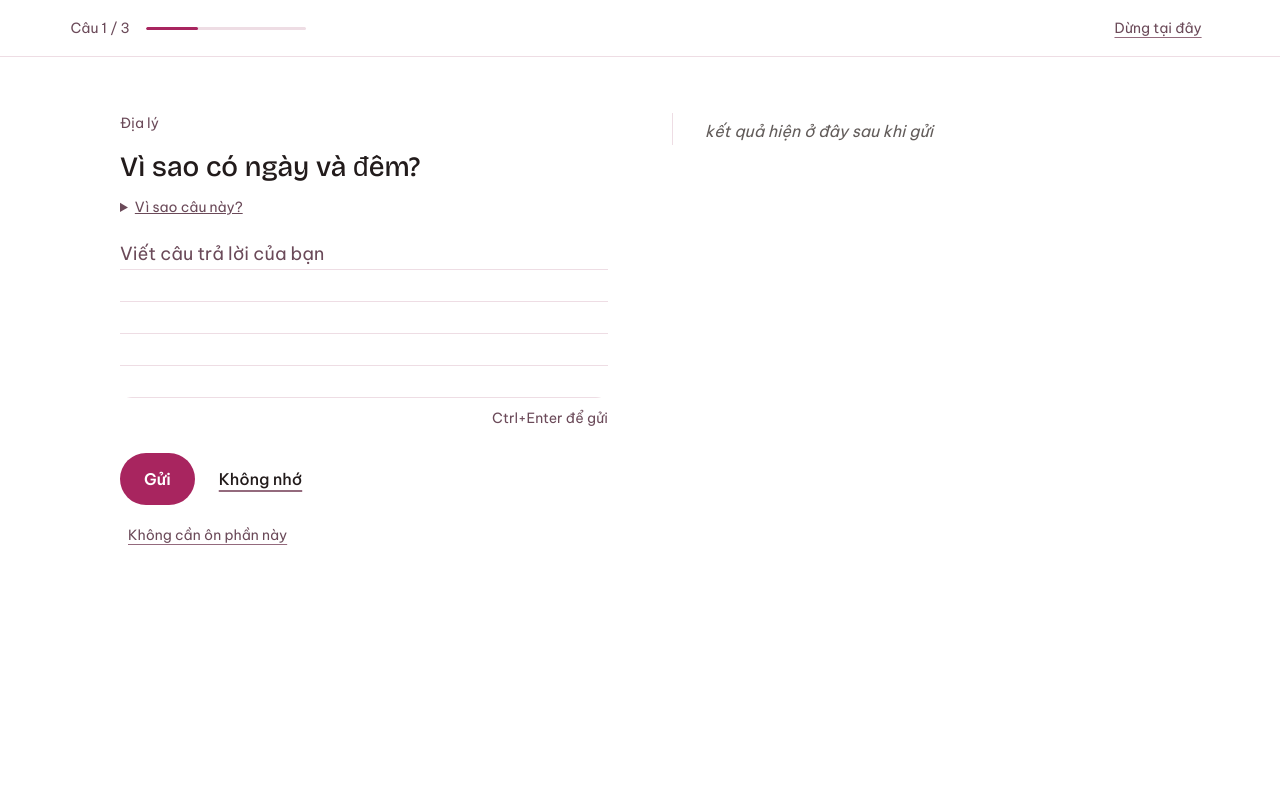
Test case: Không cần ôn phần này (T2.24, US-04 AC5) › US-04 AC5: Hoàn tác undoes the skip at once and the line goes
Click the button "Không cần ôn phần này". click: [208, 535]
box: [120,513,295,557]
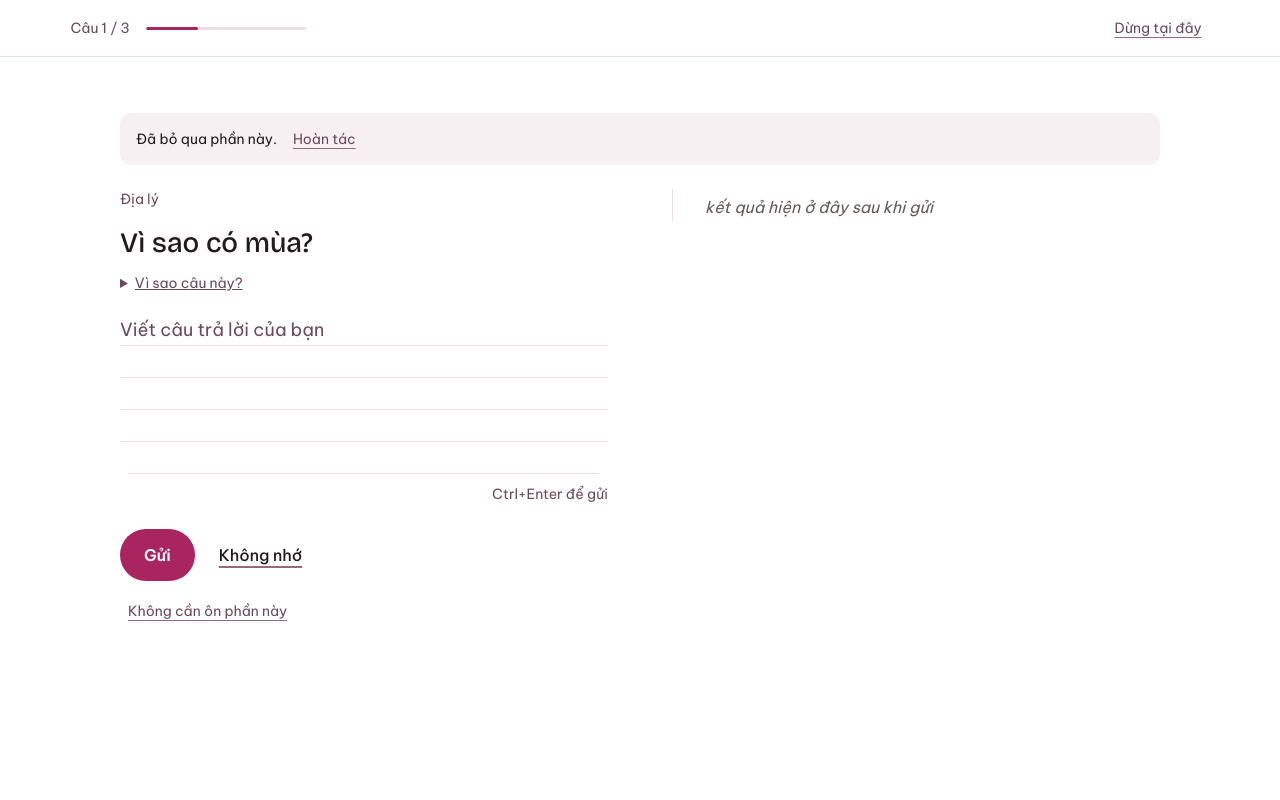
Click the button "Hoàn tác". click: [324, 139]
box: [285,117,364,161]
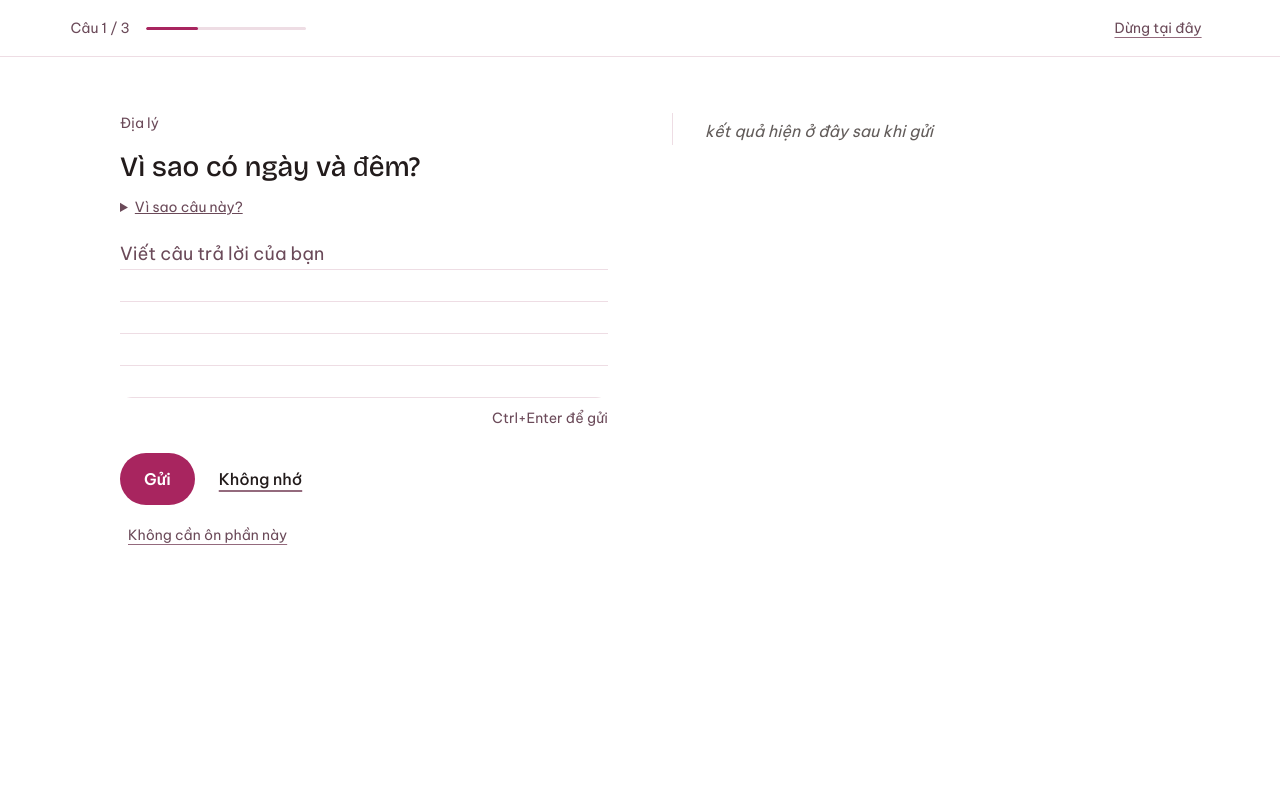
Now the button "Hoàn tác" is gone
Now the heading "Vì sao có ngày và đêm?" is shown, box [120,150,420,184]
